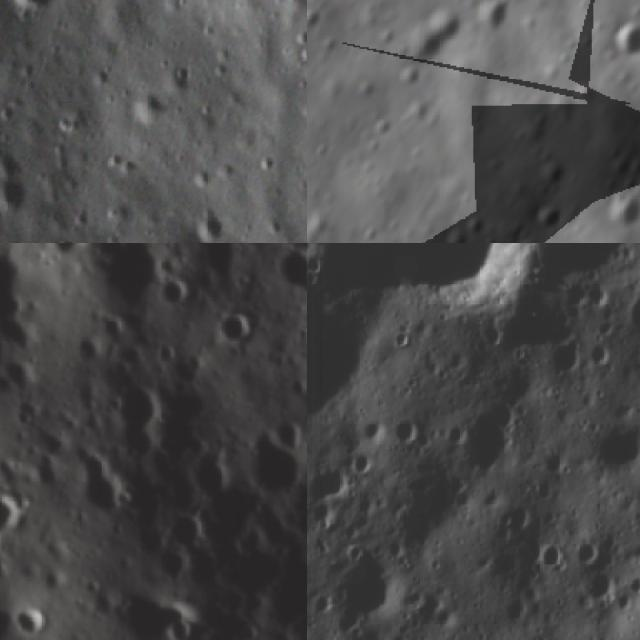crater: (321, 243, 518, 303), (98, 372, 176, 466), (331, 556, 416, 624), (237, 422, 307, 499), (68, 460, 142, 526), (404, 0, 473, 68), (0, 243, 43, 352), (178, 442, 240, 508), (308, 458, 357, 510), (162, 506, 210, 557), (128, 78, 172, 128), (0, 485, 40, 537), (4, 601, 55, 640), (213, 308, 262, 348), (156, 273, 201, 313), (272, 243, 307, 294), (469, 0, 512, 40), (192, 200, 230, 243), (605, 189, 640, 234), (0, 174, 33, 220), (608, 16, 640, 62), (71, 330, 109, 365), (9, 0, 66, 23), (530, 199, 567, 234), (161, 615, 202, 640), (43, 243, 92, 261), (462, 212, 493, 239), (198, 627, 251, 640), (628, 288, 640, 328), (307, 8, 325, 30)
